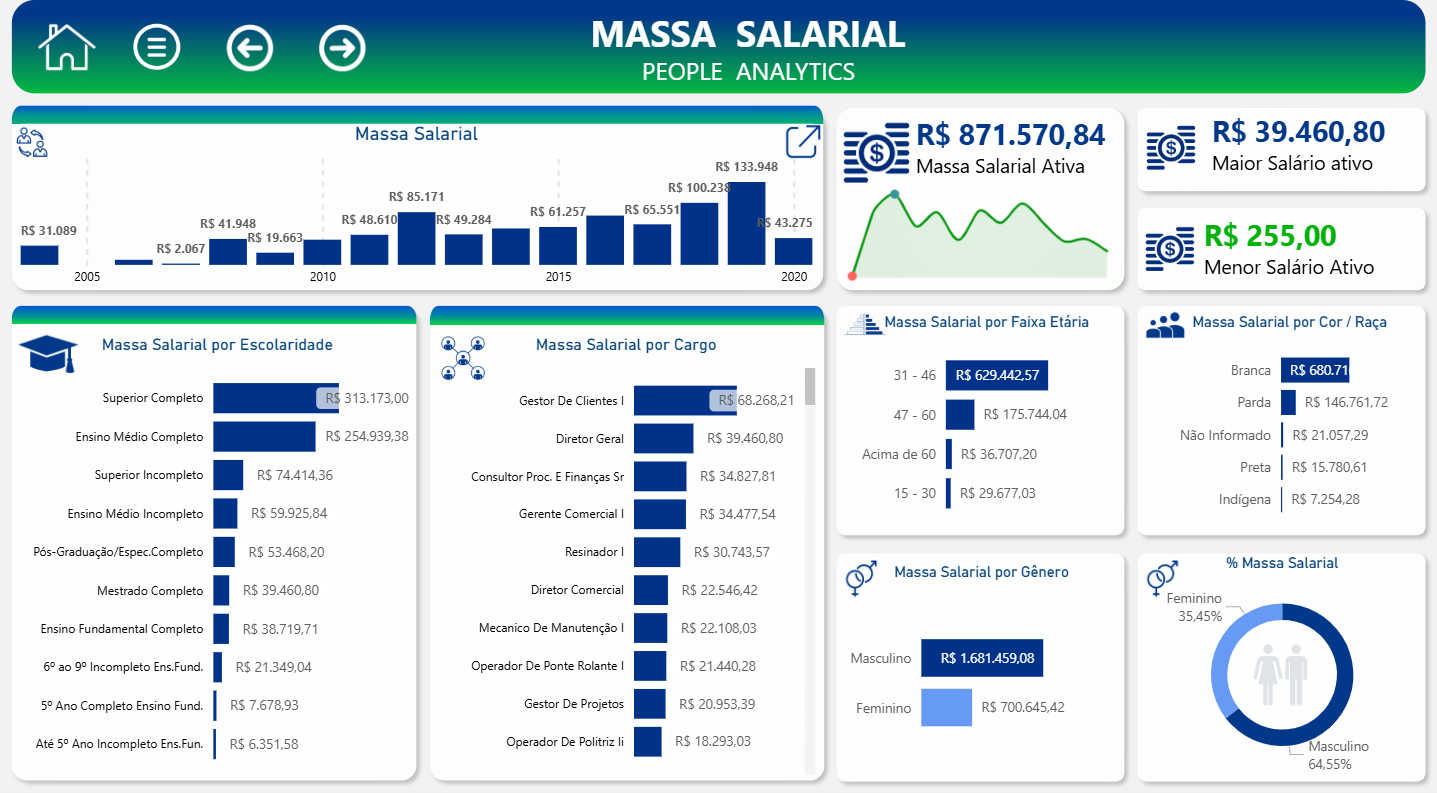

What the dashboard file says about the page in this screenshot:
{"tool":"powerbi","page":{"name":"Massa Salarial","canvas":[1280,720],"ordinal":3},"visuals":[{"type":"clusteredBarChart","title":"Massa Salarial por Escolaridade","fields":{"Y":["Medidas_Funcionarios.Massa Salarial Ativa"],"Category":["dEscolaridade.Escolaridade"]},"box":[18.3,313.1,357.1,395.3],"z":0},{"type":"lineStackedColumnComboChart","title":"Massa Salarial","fields":{"Category":["dCalendario.ANO","dCalendario.MÊS ABREVIADO"],"Y":["Medidas_Funcionarios.Massa Salarial Ativa"]},"box":[18.2,124.5,712.2,155.7],"z":1000},{"type":"clusteredBarChart","title":"Massa Salarial por Cargo","fields":{"Category":["dCargos.Cargo"],"Y":["Medidas_Funcionarios.Massa Salarial Ativa"]},"box":[386.2,313.1,346.3,395.3],"z":2000},{"type":"clusteredBarChart","title":"Massa Salarial por Faixa Etária","fields":{"Category":["dFaixa_Etária.FAIXA ETÁRIA"],"Y":["Medidas_Funcionarios.Massa Salarial Ativa"]},"box":[758.2,293.6,242.6,193.3],"z":3000},{"type":"clusteredBarChart","title":"Massa Salarial por Gênero","fields":{"Y":["Medidas_Funcionarios.Massa Salarial"],"Category":["dSexo.SEXO"]},"box":[748.2,515.5,252.9,191.2],"z":4000},{"type":"PBI_CV_25997FEB_F466_44FA_B562_AC4063283C4C","fields":{"axis":["dCalendario.MÊS ABREVIADO"],"measure":["Medidas_Funcionarios.Massa Salarial Ativa"]},"box":[742,171.1,265.9,102],"z":5000},{"type":"multiRowCard","title":"Total de Contrarações","fields":{"Values":["Medidas_Funcionarios.Maior Salário"]},"box":[1074.1,110.1,190.7,77.9],"z":6000},{"type":"multiRowCard","title":"Total de Contrarações","fields":{"Values":["Medidas_Funcionarios.Menor Salário"]},"box":[1067,202.3,198.7,70.7],"z":7000},{"type":"multiRowCard","title":"Total de Contrarações","fields":{"Values":["Medidas_Funcionarios.Massa Salarial Ativa"]},"box":[811.1,112.5,189.7,78.2],"z":8000},{"type":"donutChart","title":"% Massa Salarial","fields":{"Category":["dSexo.SEXO"],"Y":["Medidas_Funcionarios.Massa Salarial Ativa"]},"box":[1017,507.6,248.5,199.2],"z":9000},{"type":"clusteredBarChart","title":"Massa Salarial por Cor / Raça","fields":{"Category":["Funcionarios.Raça"],"Y":["Medidas_Funcionarios.Massa Salarial Ativa"]},"box":[1038.1,293.5,219.4,193.9],"z":10000},{"type":"textbox","box":[386.6,18.2,561.7,79.1],"z":11000},{"type":"textbox","box":[540,58.7,256.6,45.3],"z":12000},{"type":"image","box":[1106.6,579.9,66.2,68.8],"z":14000},{"type":"image","title":"bt_pop-up","box":[695,121,43,42],"z":17000},{"type":"actionButton","box":[35,27.2,58.4,66.2],"z":21000},{"type":"actionButton","box":[198.2,25.9,55.6,66.7],"z":22000},{"type":"actionButton","box":[277.9,27.8,57.4,64.8],"z":23000},{"type":"actionButton","title":"Botão_menu","box":[114.8,25.9,55.6,66.7],"z":25000}]}

Visuals, with their boxes in screenshot pixels (x1, y1, x2, y2), scaled from the page's 1280x720 canvas onto the 1437x793 screenshot:
"Massa Salarial por Escolaridade" clusteredBarChart: [x1=21, y1=345, x2=421, y2=780]
"Massa Salarial" lineStackedColumnComboChart: [x1=20, y1=137, x2=820, y2=309]
"Massa Salarial por Cargo" clusteredBarChart: [x1=434, y1=345, x2=822, y2=780]
"Massa Salarial por Faixa Etária" clusteredBarChart: [x1=851, y1=323, x2=1124, y2=536]
"Massa Salarial por Gênero" clusteredBarChart: [x1=840, y1=568, x2=1124, y2=778]
PBI_CV_25997FEB_F466_44FA_B562_AC4063283C4C - dCalendario.MÊS ABREVIADO x Medidas_Funcionarios.Massa Salarial Ativa: [x1=833, y1=188, x2=1132, y2=301]
"Total de Contrarações" multiRowCard: [x1=1206, y1=121, x2=1420, y2=207]
"Total de Contrarações" multiRowCard: [x1=1198, y1=223, x2=1421, y2=301]
"Total de Contrarações" multiRowCard: [x1=911, y1=124, x2=1124, y2=210]
"% Massa Salarial" donutChart: [x1=1142, y1=559, x2=1421, y2=778]
"Massa Salarial por Cor / Raça" clusteredBarChart: [x1=1165, y1=323, x2=1412, y2=537]
textbox: [x1=434, y1=20, x2=1065, y2=107]
textbox: [x1=606, y1=65, x2=894, y2=115]
image: [x1=1242, y1=639, x2=1317, y2=714]
"bt_pop-up" image: [x1=780, y1=133, x2=829, y2=180]
actionButton: [x1=39, y1=30, x2=105, y2=103]
actionButton: [x1=223, y1=29, x2=285, y2=102]
actionButton: [x1=312, y1=31, x2=376, y2=102]
"Botão_menu" actionButton: [x1=129, y1=29, x2=191, y2=102]
